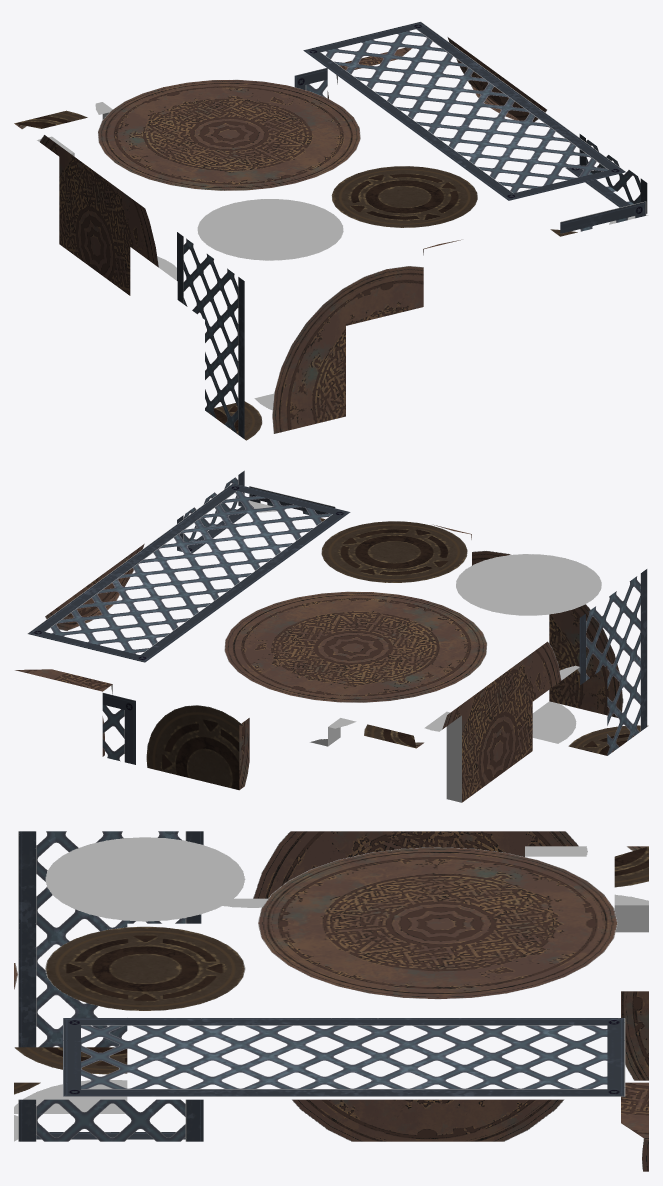
Rendered from Ground_A.fbx.
The picture shows the model from 3 angles, top to bottom: view 1: azimuth 30°, elevation 25°; view 2: azimuth 150°, elevation 25°; view 3: azimuth 270°, elevation 25°; orthographic projection. The views are drawn at different scales.
Visible parts, largest first — view 1: Ground_A; view 2: Ground_A; view 3: Ground_A.
Boxes of the visible parts, x1,y1,x2,y2 form: Ground_A: (14,21,648,440); Ground_A: (15,470,648,802); Ground_A: (14,831,648,1171).
Bounding box in the file's own units: 1644 × 618 × 1644.
